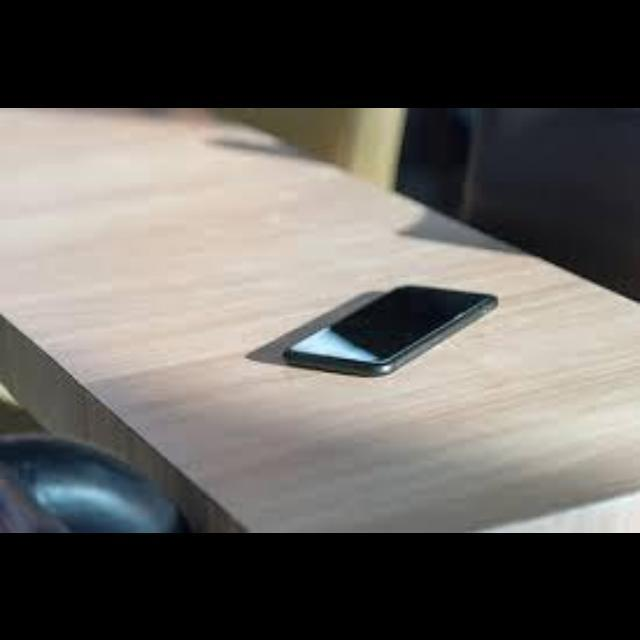Phone: (282, 282, 496, 374)
